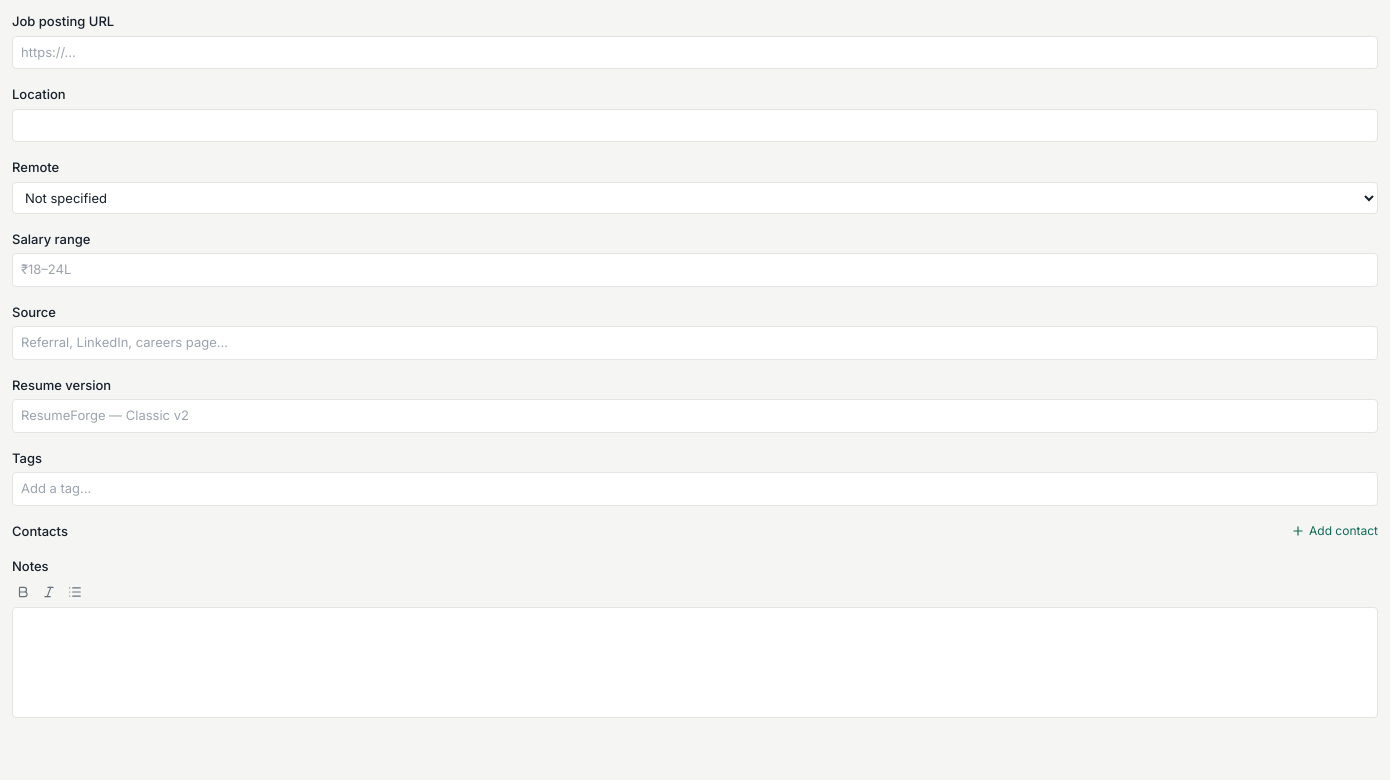
it: ApplicationForm › renders a javascript: URL as inert text, not a link
Type "javascript:alert(1)" into the field with placeholder "https://…" at (695, 52), box [12,36,1378,69]
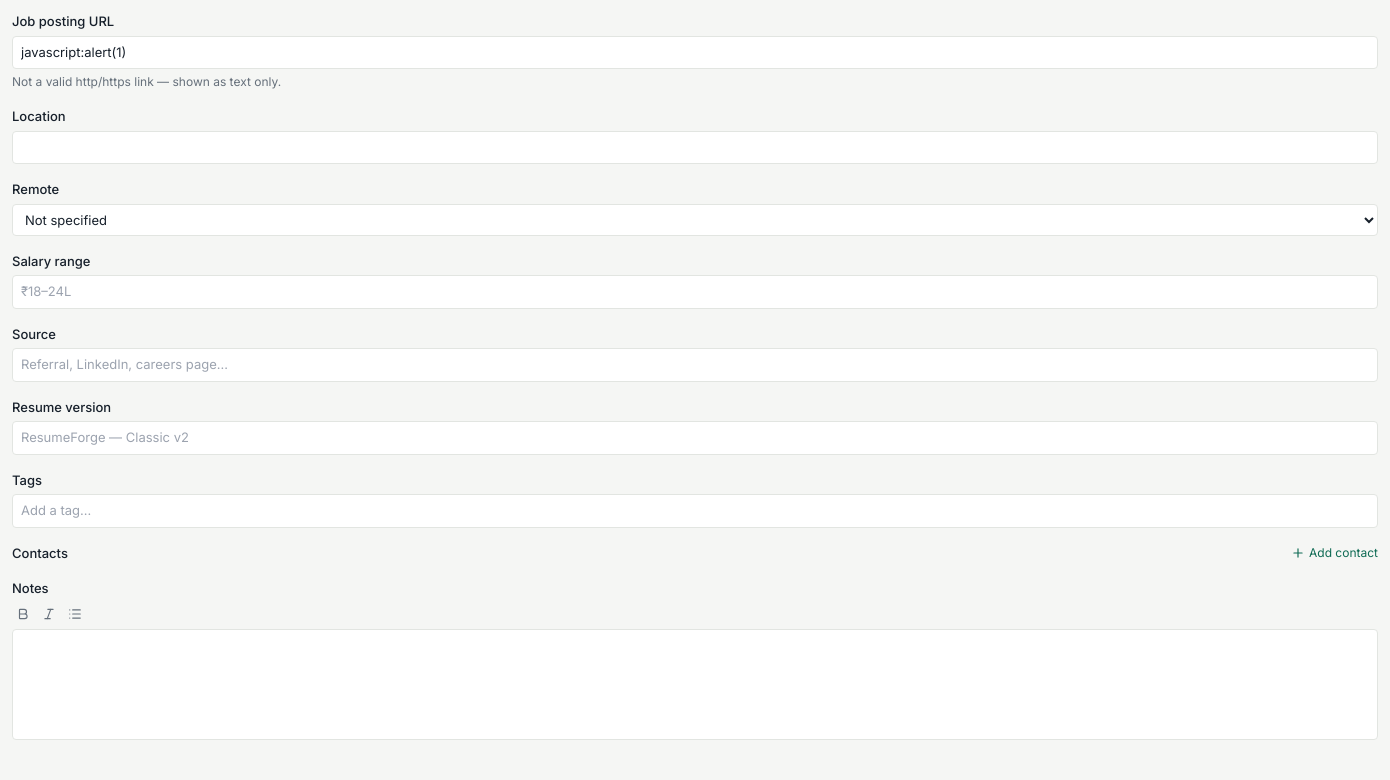
expect the text "Not a valid http/https link — shown as text only." is shown: met, box [12,74,281,89]
